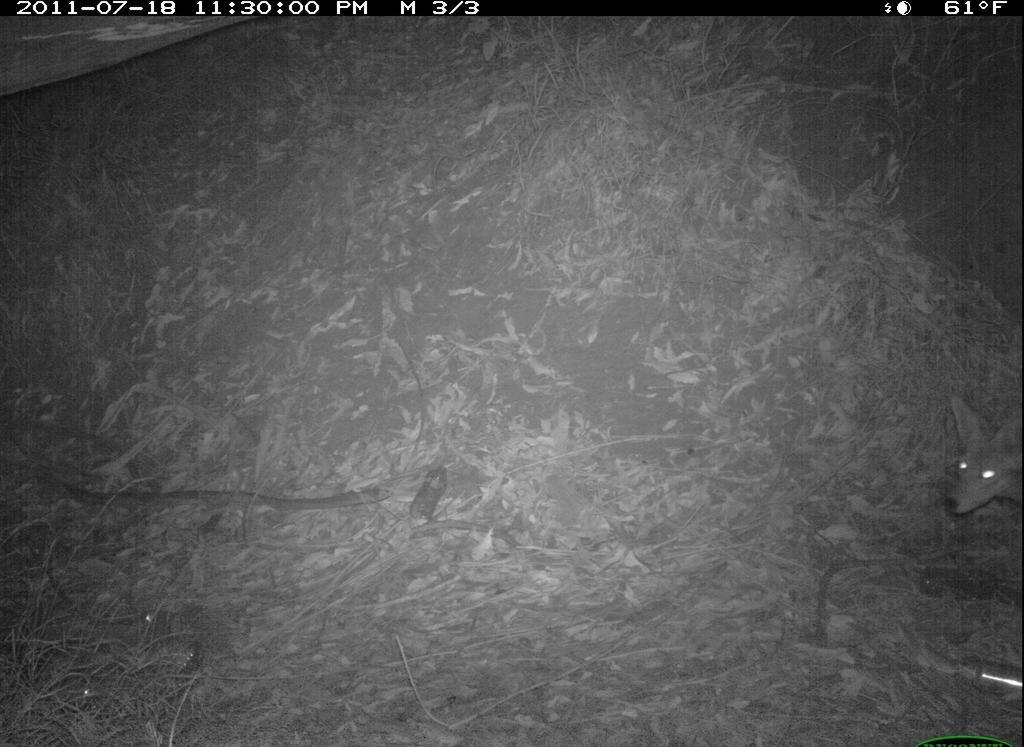coyote: (927, 386, 1022, 533)
